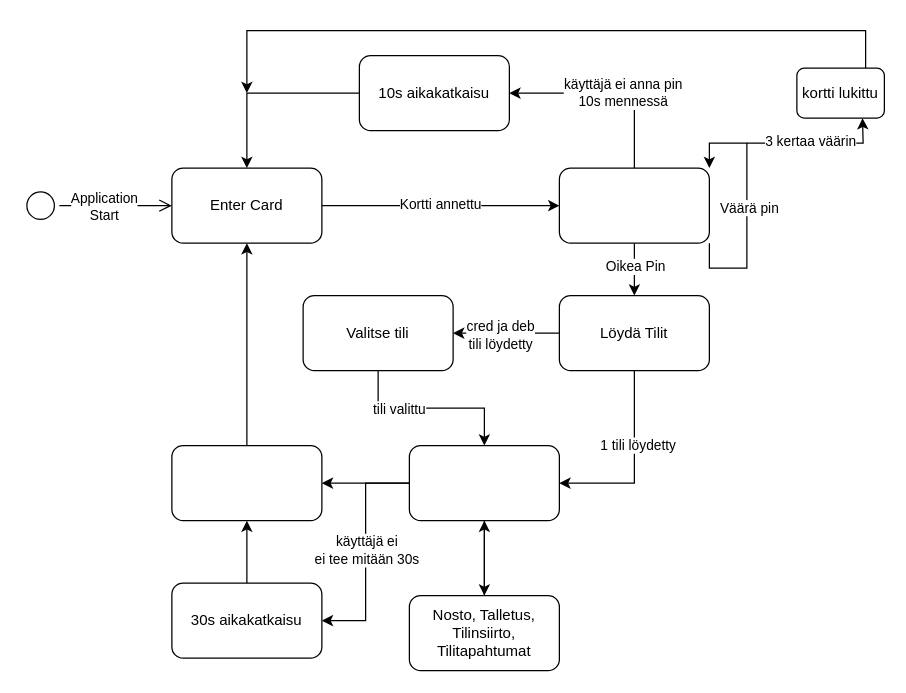
Image size: 906x693. Some labels were removed from this diagram. The centre of each missing label's shape, as x and y in pixels:
"Kirjaudu ulos" goes at point (246, 482).
"Pin numpad" goes at point (633, 205).
"Tili" goes at point (483, 482).
